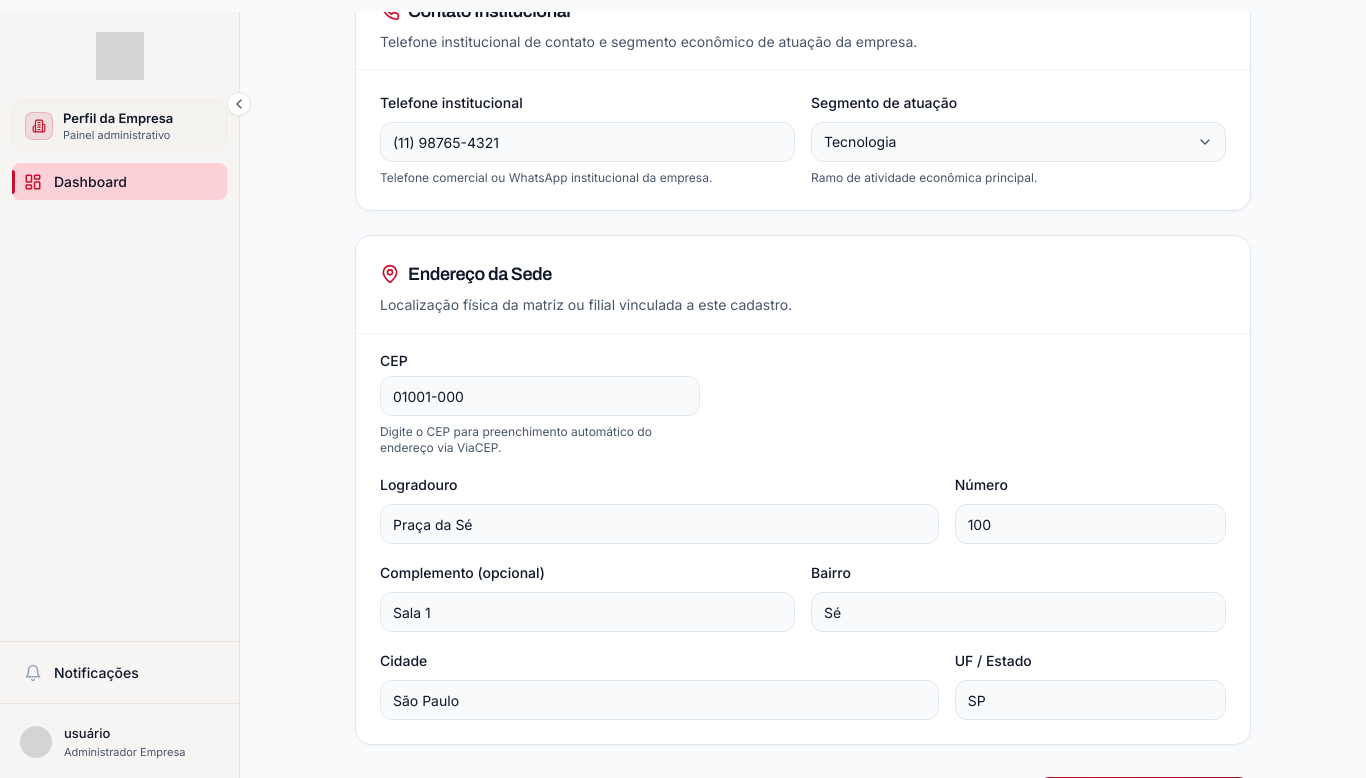
it: ConfiguracoesEmpresa - Branding & Perfil Completo › busca automática de CEP via ViaCEP preenche campos de endereço
(page scrolled)
Step 1. Replace the text in the field labelled "CEP" with "01311000" → (540, 396), box [380,376,700,416]
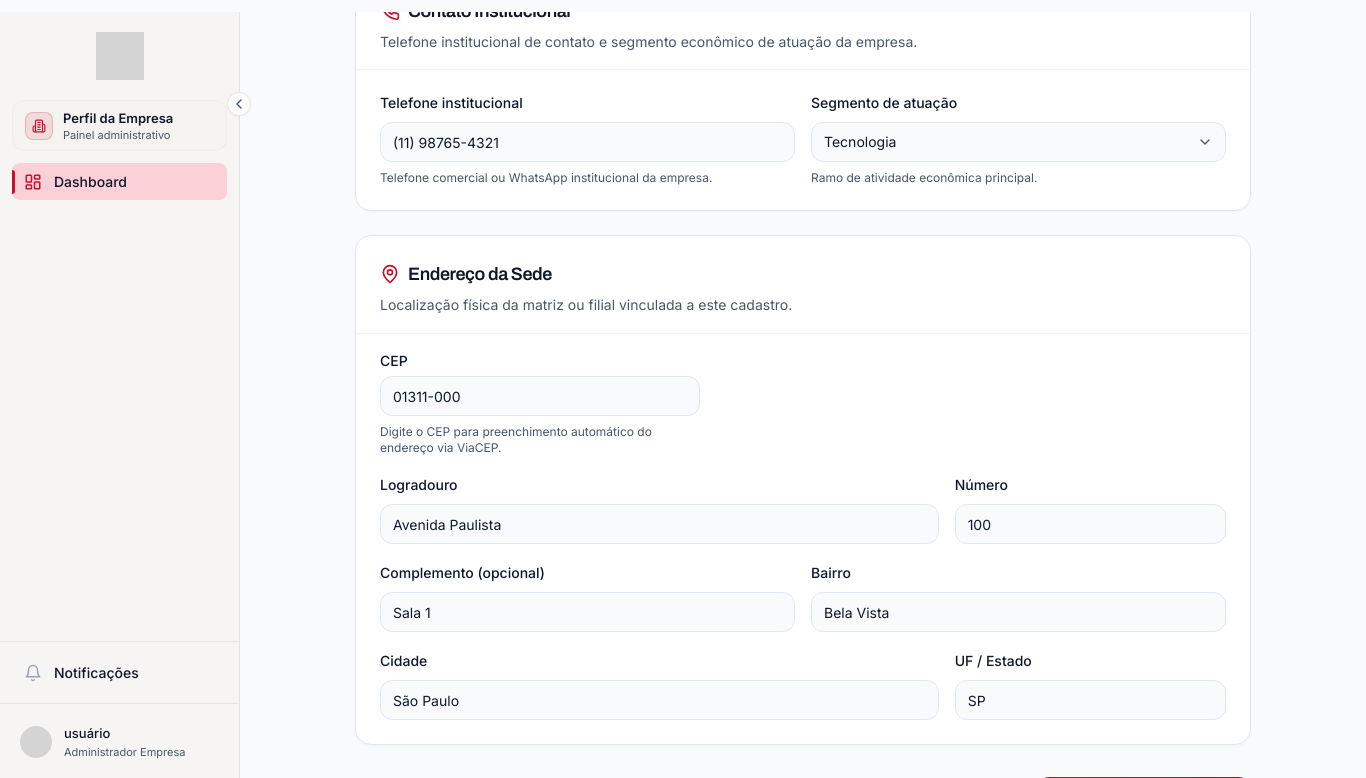
Expected: the field labelled "Cidade" holds "São Paulo", [380,680,939,720]
Result: the field labelled "Logradouro" holds "Avenida Paulista" at [380,504,939,544]
Result: the field labelled "Bairro" holds "Bela Vista" at [811,592,1226,632]
